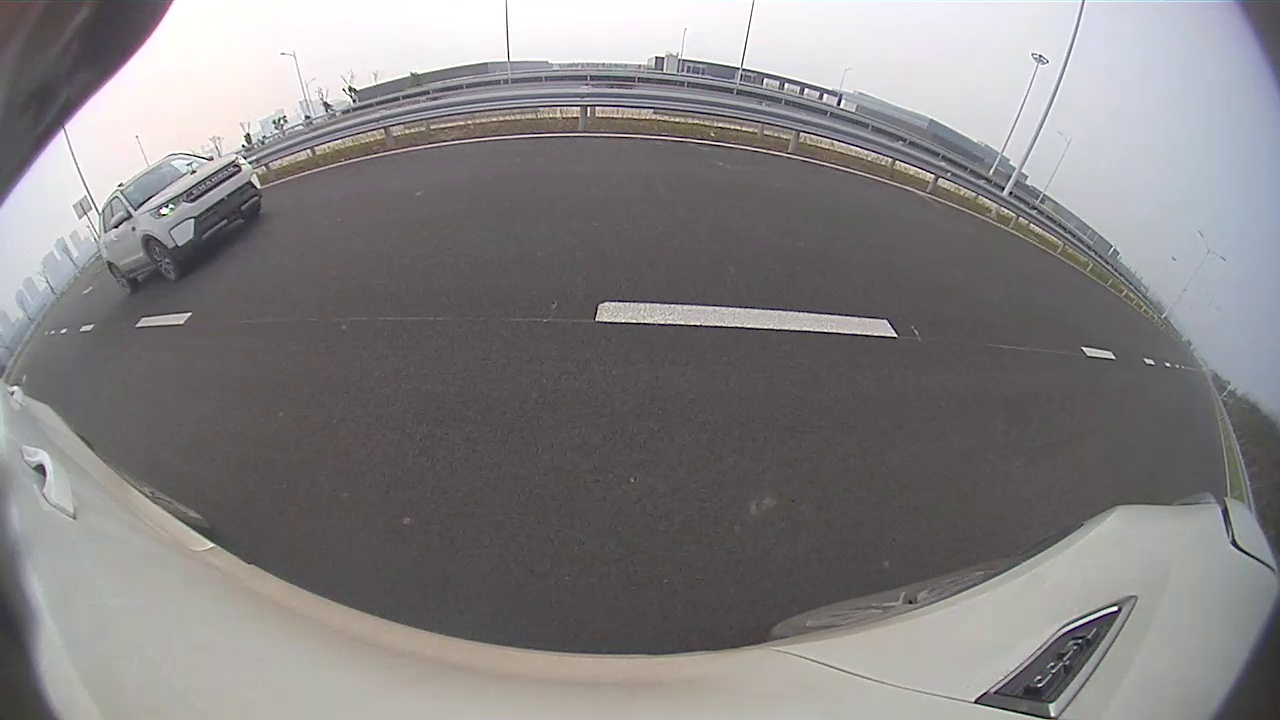car: (98, 153, 263, 296)
front: (143, 238, 181, 283)
rear: (106, 262, 134, 294)
